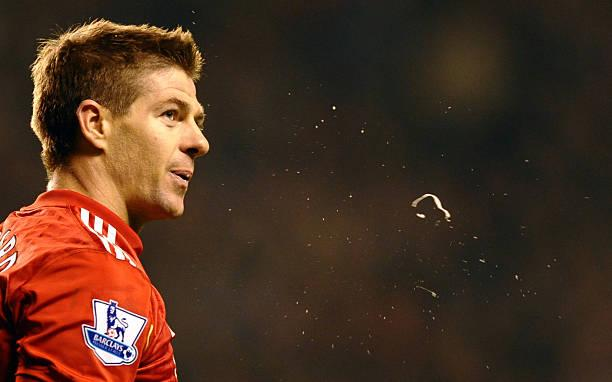Spitting: (13, 0, 323, 227)
